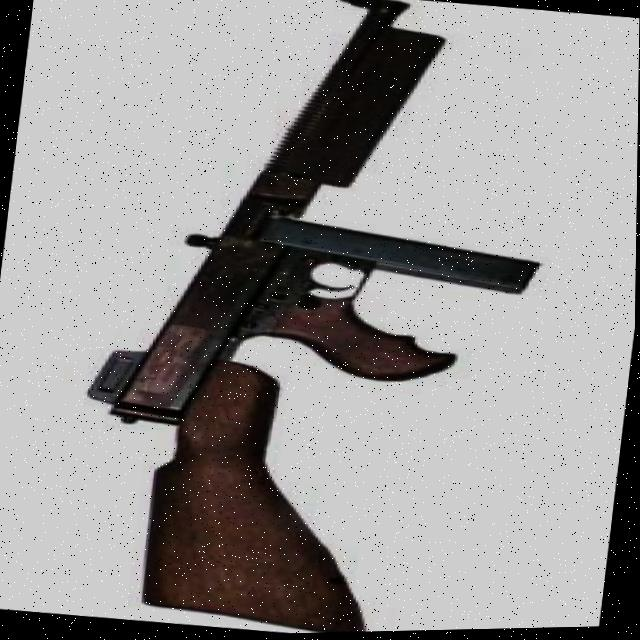firearm: (56, 0, 569, 639)
